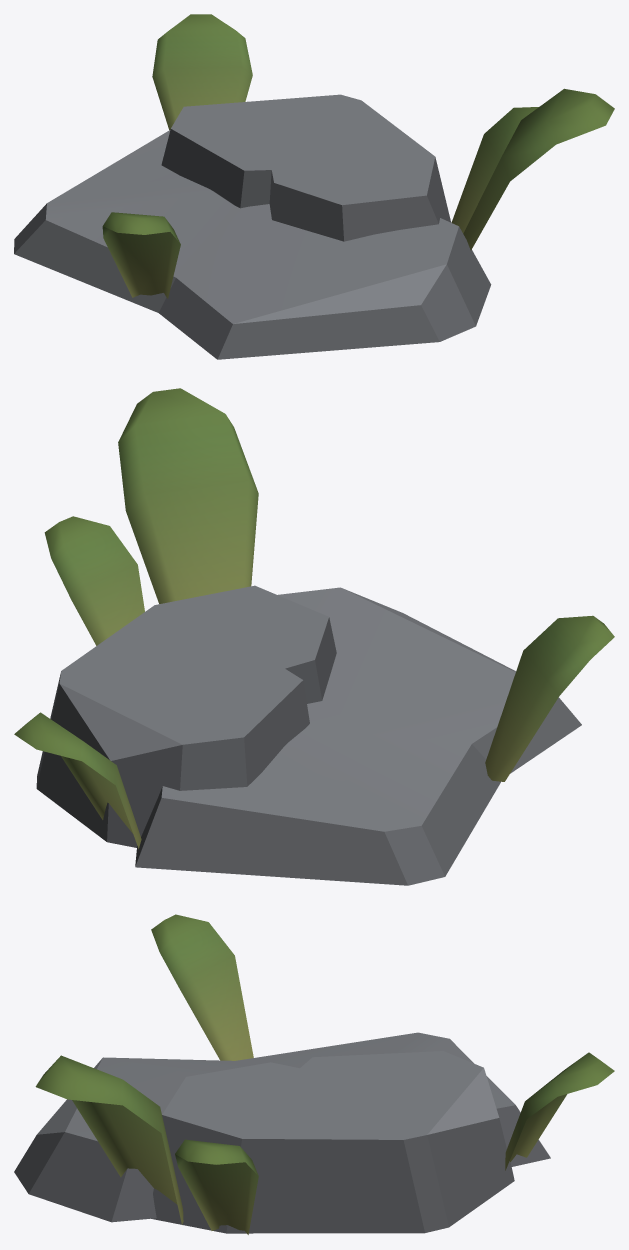
The model's file is DE_StoneGrass_01_Green.fbx.
3 renders of one model, top to bottom at view 1: azimuth 30°, elevation 25°; view 2: azimuth 150°, elevation 25°; view 3: azimuth 270°, elevation 25°, orthographic. The views are drawn at different scales.
Visible parts, largest first — view 1: DE_StoneGrass_01_Green; view 2: DE_StoneGrass_01_Green; view 3: DE_StoneGrass_01_Green.
Boxes of the visible parts, x1,y1,x2,y2 form: DE_StoneGrass_01_Green: [14, 14, 614, 359]; DE_StoneGrass_01_Green: [14, 388, 614, 885]; DE_StoneGrass_01_Green: [14, 914, 614, 1234].
Bounding box in the file's own units: 72.95 × 28.08 × 78.48.
